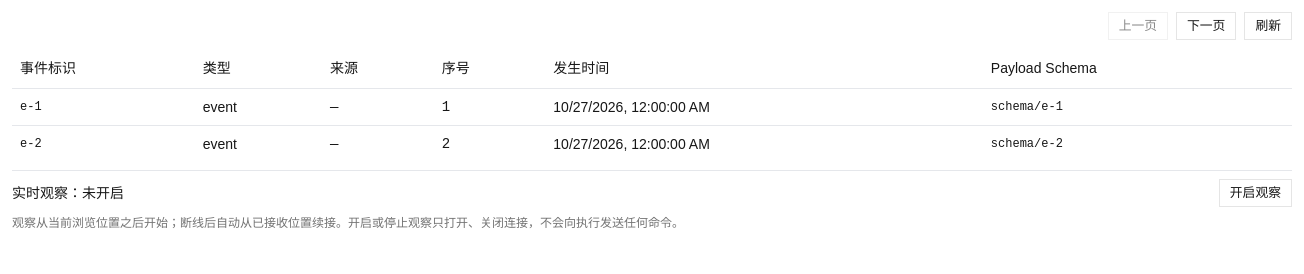
Test: RunEventsPanel live observation › stops on the actual FastAPI rejection envelope without retrying
Expected: the text "e-1" is shown, [12, 88, 195, 125]
Click the button with test id "live-start" at (1255, 192), box [1219, 178, 1292, 206]
Wait 30000 ms
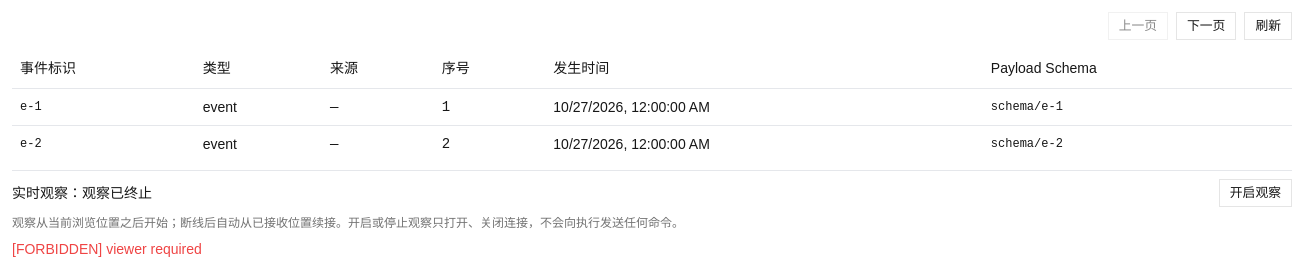
Expected: the message with test id "live-error" shows "FORBIDDEN", [12, 240, 106, 256]
